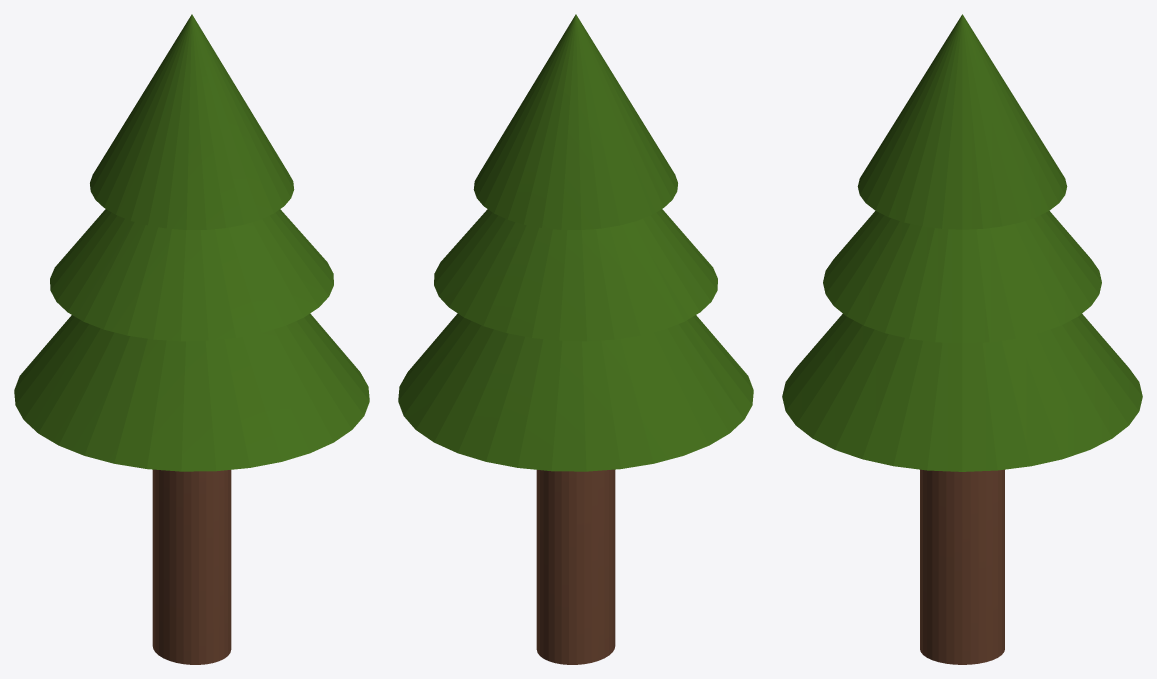
Rendered from tree.glb.
3 views of the same model, side by side, from view 1: azimuth 30°, elevation 25°; view 2: azimuth 150°, elevation 25°; view 3: azimuth 270°, elevation 25° (orthographic).
Visible parts, largest first — view 1: Tree1.002, Tree1.001, Tree1, TreeTrunk; view 2: Tree1.002, Tree1.001, Tree1, TreeTrunk; view 3: Tree1.002, Tree1.001, Tree1, TreeTrunk.
Boxes of the visible parts, <box> form: Tree1.002: <box>14,313,369,471</box>; Tree1.001: <box>50,209,333,341</box>; Tree1: <box>90,14,294,229</box>; TreeTrunk: <box>152,469,231,664</box>; Tree1.002: <box>398,313,753,471</box>; Tree1.001: <box>434,209,717,341</box>; Tree1: <box>473,14,677,229</box>; TreeTrunk: <box>536,469,615,664</box>; Tree1.002: <box>782,314,1142,471</box>; Tree1.001: <box>823,211,1101,343</box>; Tree1: <box>857,14,1067,229</box>; TreeTrunk: <box>920,469,1004,664</box>.
Size of the model in its own units: 2.94 by 5.79 by 2.98.
Materials: 4 (4 with a texture image).
